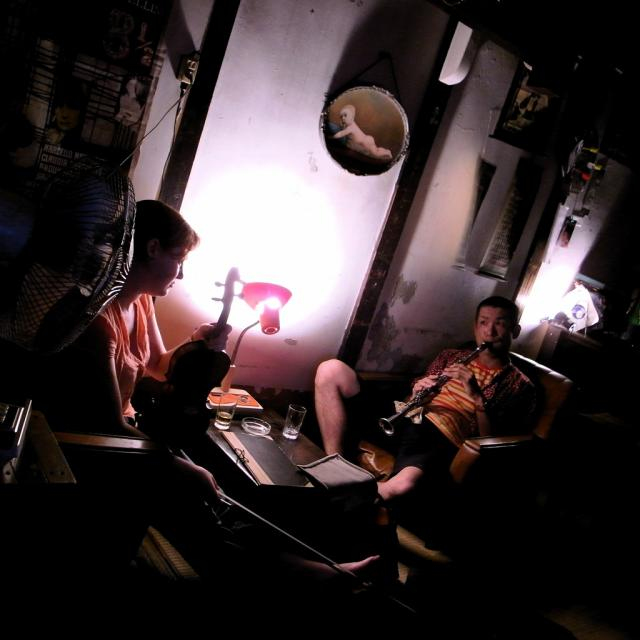clarinet: (379, 339, 495, 436)
violin: (153, 267, 245, 453)
